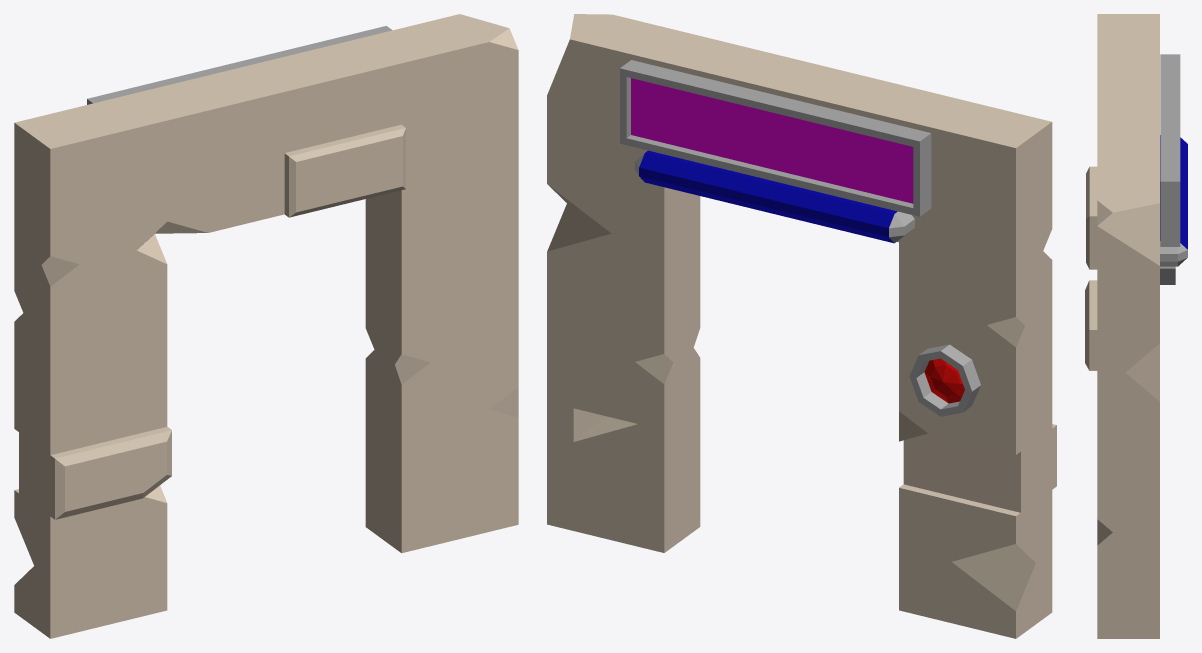
Rendered from DoorFrame_001.fbx.
3 views of the same model, side by side, from view 1: azimuth 30°, elevation 25°; view 2: azimuth 150°, elevation 25°; view 3: azimuth 270°, elevation 25° (orthographic). The views are drawn at different scales.
Visible parts, largest first — view 1: Doorframe_001; view 2: Doorframe_001; view 3: Doorframe_001.
Boxes of the visible parts, x1=… form: Doorframe_001: x1=14, y1=14, x2=518, y2=638; Doorframe_001: x1=547, y1=14, x2=1056, y2=638; Doorframe_001: x1=1085, y1=14, x2=1187, y2=638.
Bounding box in the file's own units: 3 × 3 × 0.657.
